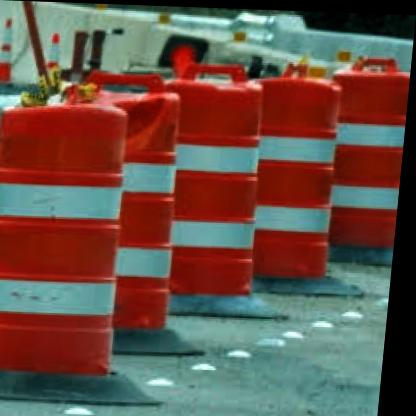obstacle: (0, 90, 135, 375), (163, 78, 267, 298), (254, 77, 351, 279)
